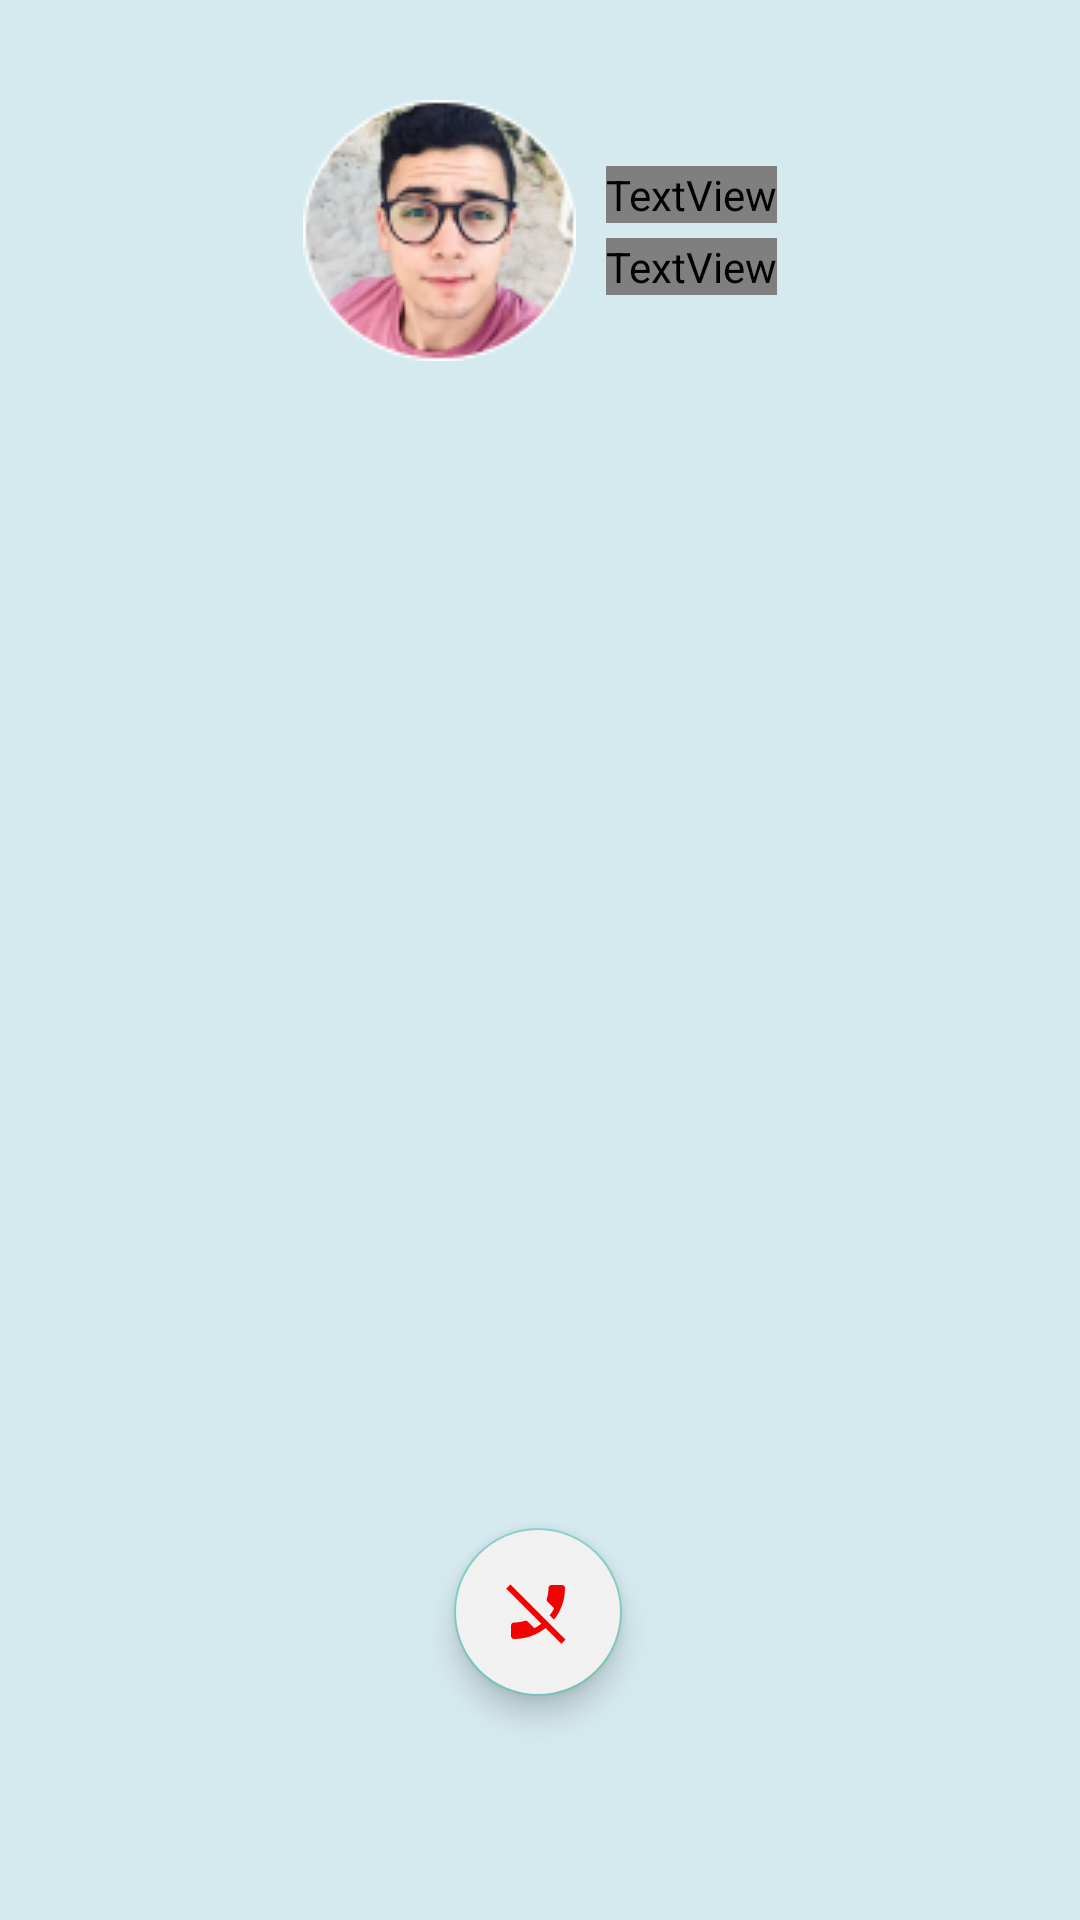

Named icons in this screenshot (1080px x 1920px) and their bounding boxes, (x1, y1, x2, y2):
end: (454, 1528, 622, 1696)
